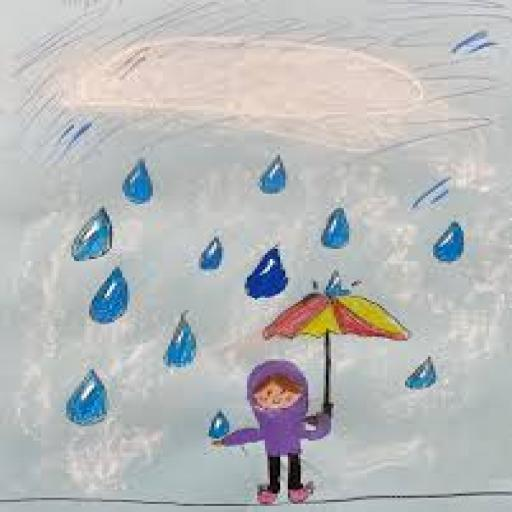person: (210, 356, 341, 510)
